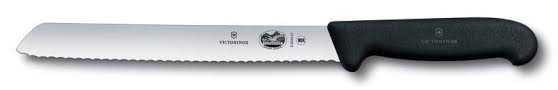knife: (15, 16, 539, 75)
